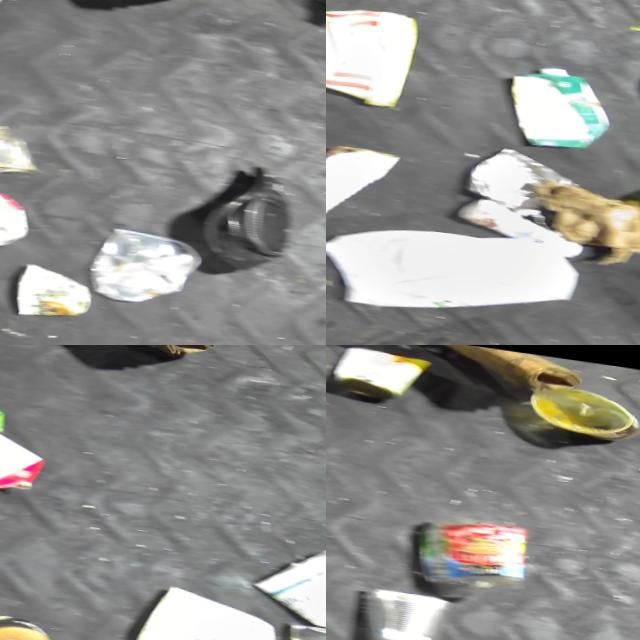can: (455, 140, 579, 221), (520, 377, 640, 443), (326, 345, 436, 406), (348, 582, 456, 640), (0, 180, 28, 252), (274, 619, 326, 640)
milk_jug: (326, 207, 577, 333)
non_white_jug: (494, 59, 608, 153), (326, 0, 419, 110), (0, 380, 51, 497)
